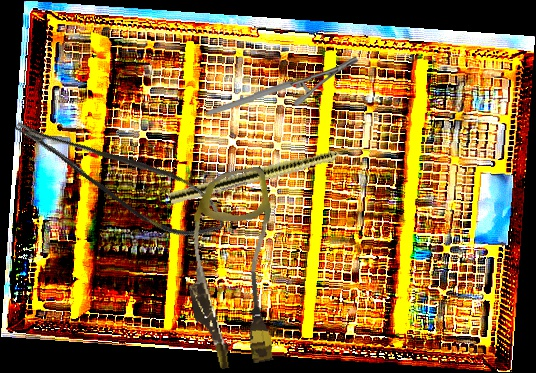Cannula: (170, 165, 297, 373)
Handpiece: (168, 138, 373, 208)
Micro Scissor: (9, 83, 235, 261)
Needle Holder: (205, 55, 360, 116)
